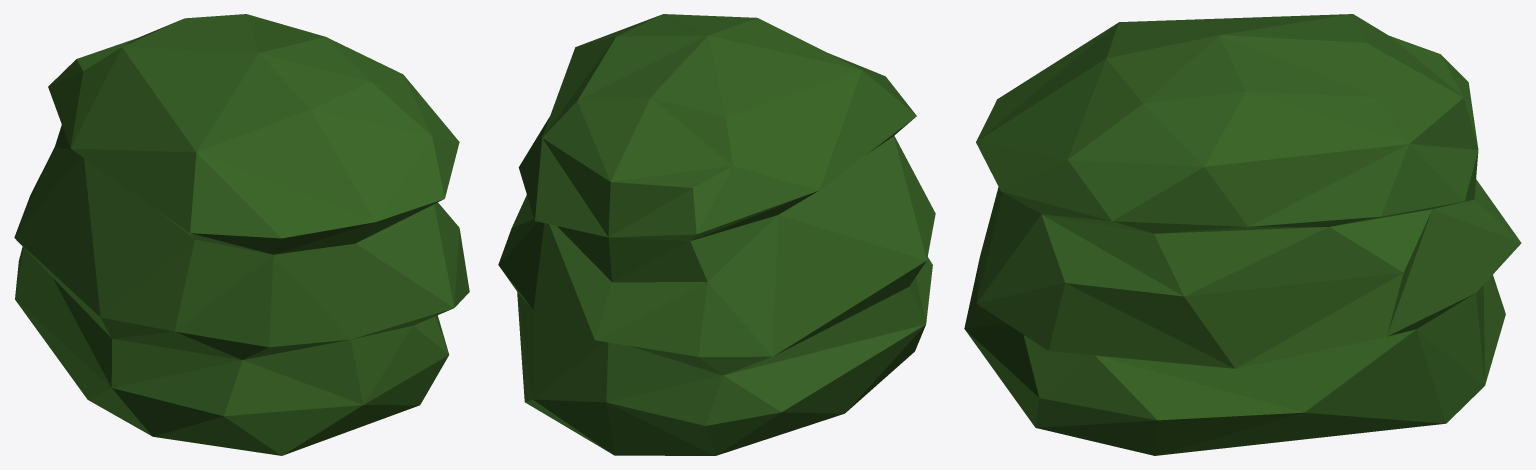
File: bush_a.glb
The picture shows the model from 3 angles, left to right: view 1: azimuth 30°, elevation 25°; view 2: azimuth 150°, elevation 25°; view 3: azimuth 270°, elevation 25°; orthographic projection. The views are drawn at different scales.
Parts seen in each view (by area): view 1: bush_a; view 2: bush_a; view 3: bush_a.
Part boxes in pixels (left/top/right/bottom): bush_a: left=14, top=14, right=469, bottom=455; bush_a: left=498, top=14, right=935, bottom=455; bush_a: left=964, top=14, right=1521, bottom=455.
Bounding box in the file's own units: 1.34 × 1.24 × 1.69.
